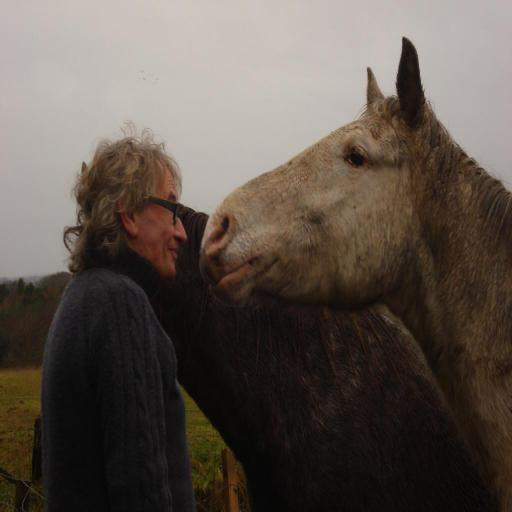horse: (196, 32, 512, 512), (78, 160, 495, 512)
